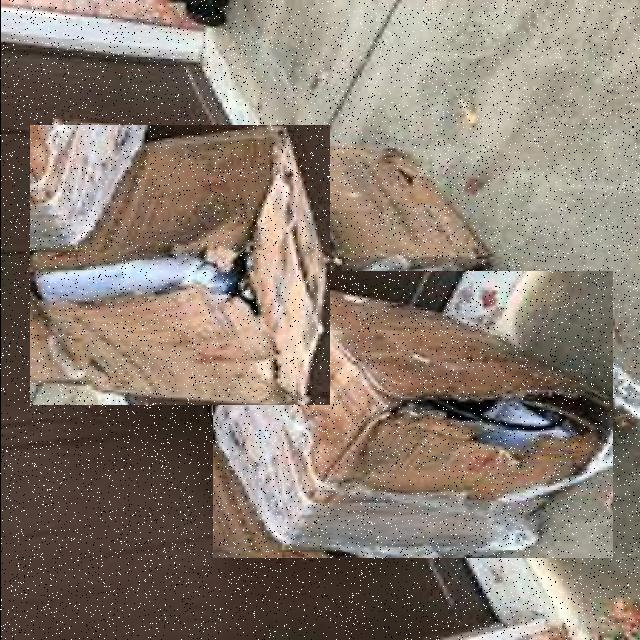defect: (212, 271, 612, 558), (29, 124, 329, 404)
